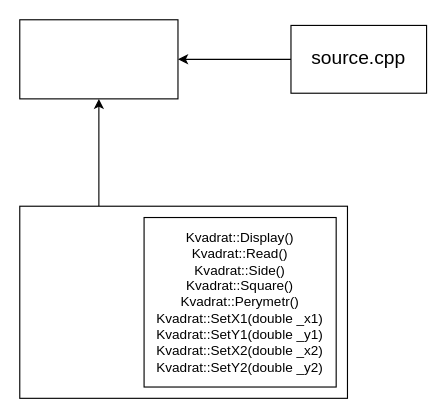
The diagram is 446 pixels wide and 418 high, and some of its shapes have lost their labels. Each missing label, with the box of its shape:
lab_1.2.cpp: (19, 205, 347, 398)
square.h: (19, 19, 178, 99)
